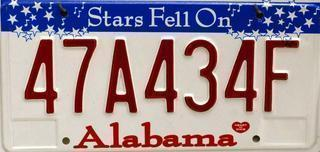placa de veiculo: (3, 0, 314, 152)
